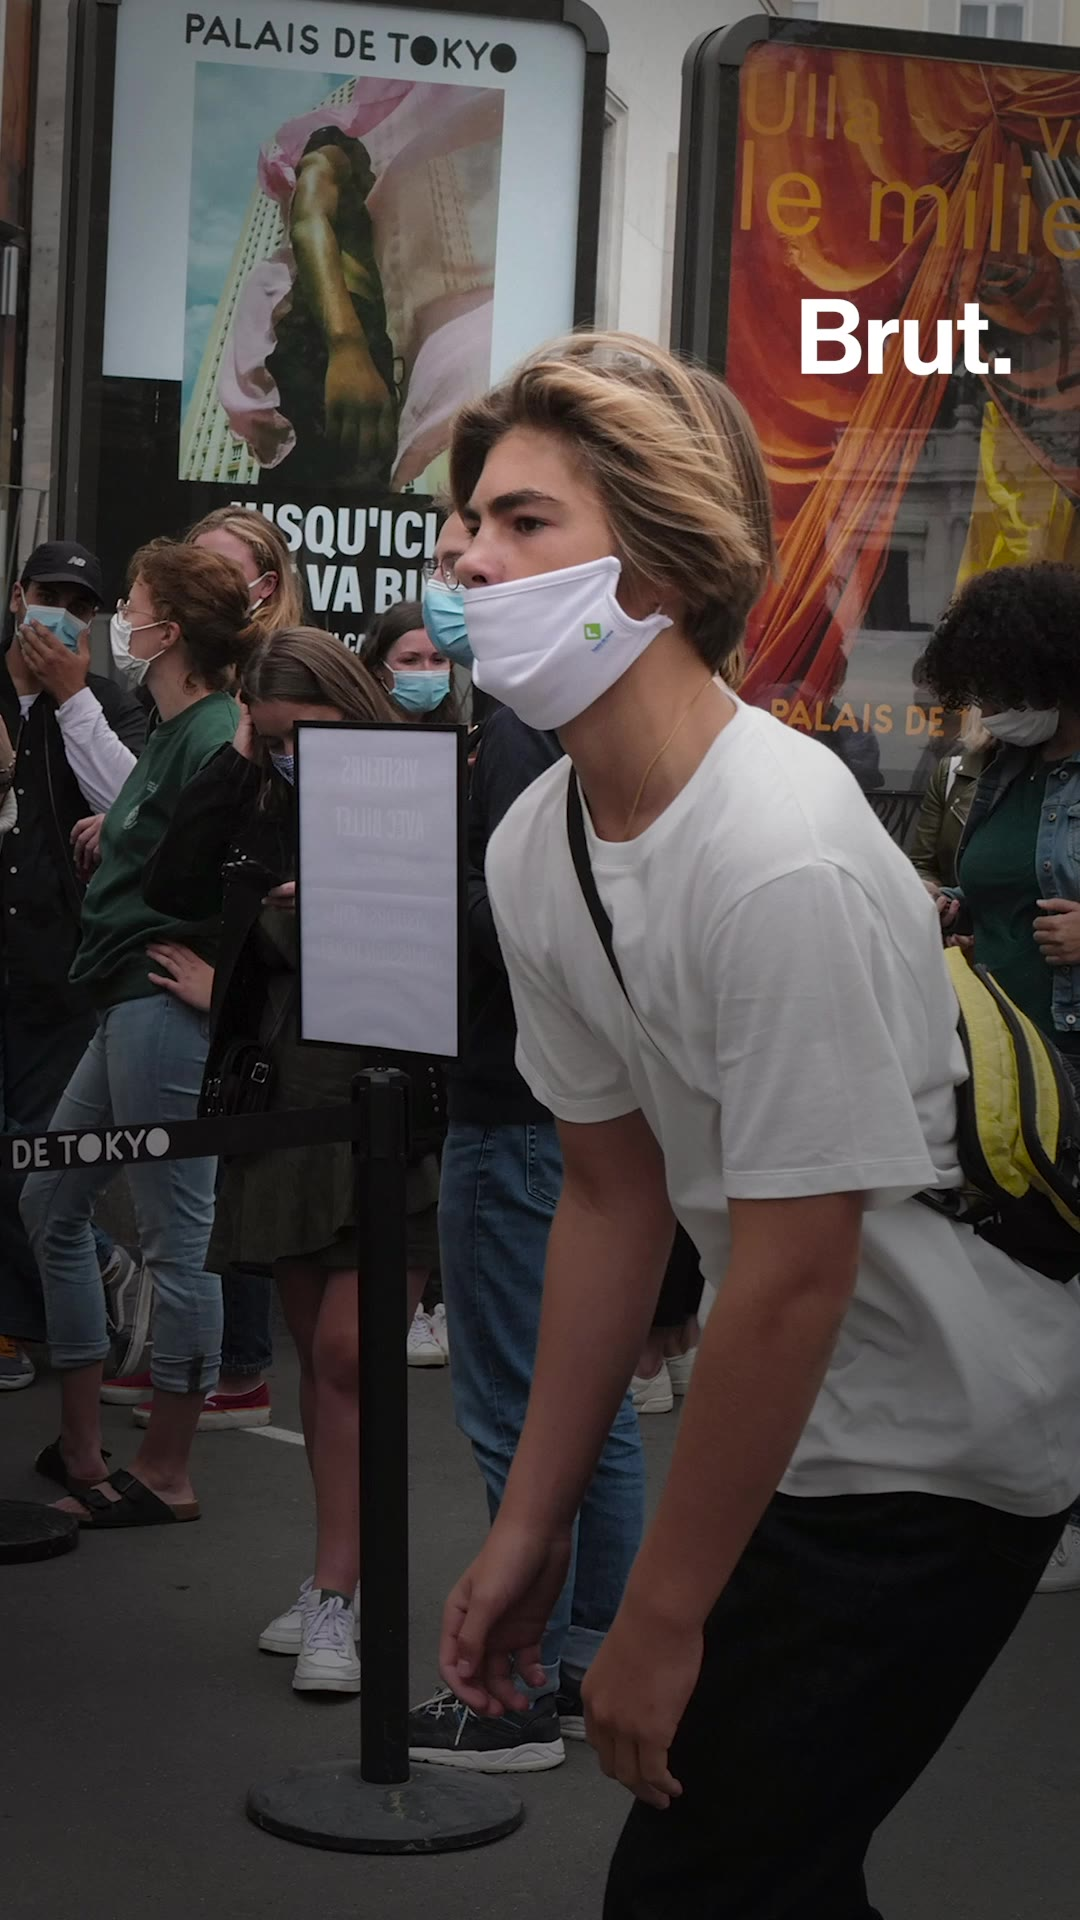with_incorrect_mask: (445, 480, 649, 686)
with_mask: (15, 572, 87, 674), (101, 590, 175, 688), (381, 630, 437, 710)
